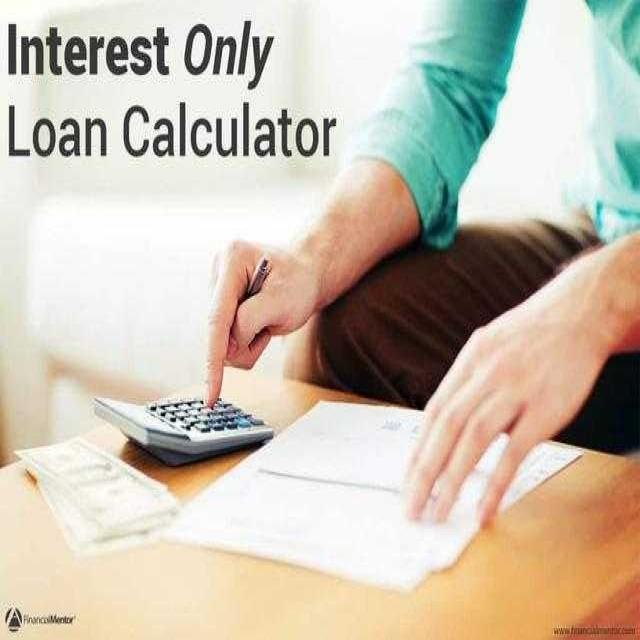Calculator: (91, 392, 275, 467)
